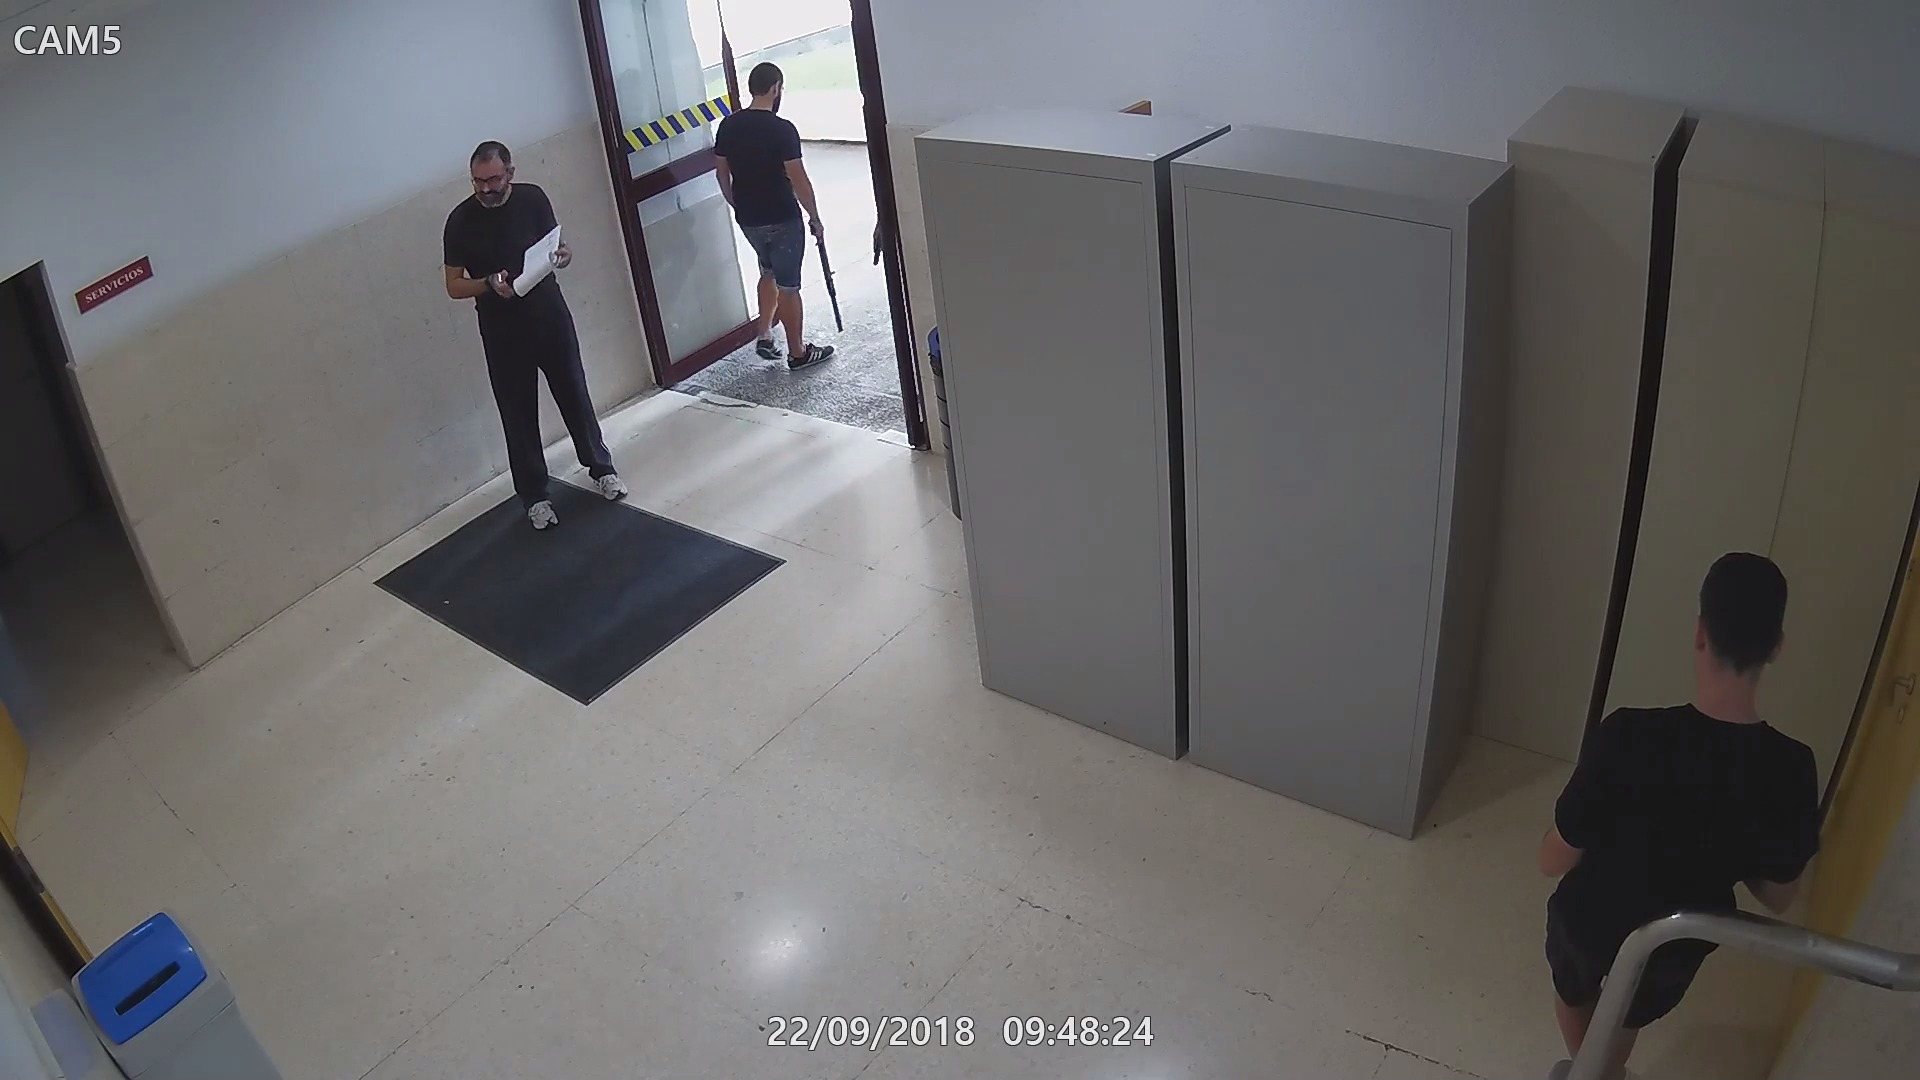Handgun: (865, 219, 891, 269)
Short_rifle: (806, 214, 847, 334)
